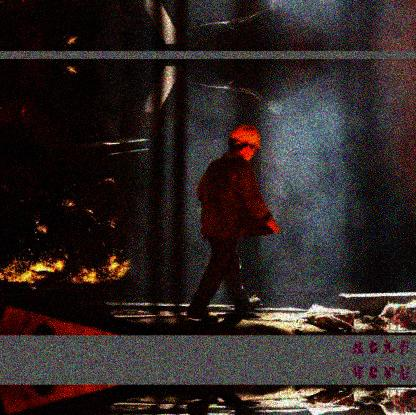helmet: (229, 124, 264, 161)
